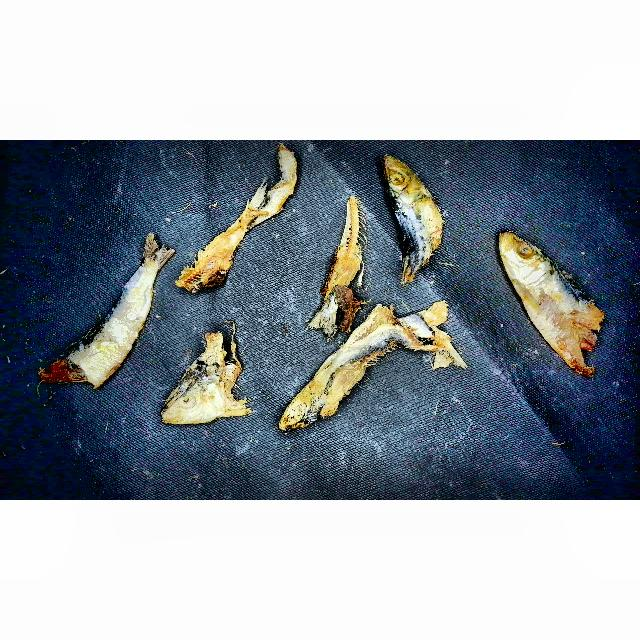Rejected_Body: (43, 278, 151, 400), (313, 302, 434, 406), (523, 294, 613, 379), (172, 222, 242, 301), (323, 197, 373, 295)
Rejected_Head: (157, 335, 259, 429), (381, 153, 446, 280), (492, 228, 560, 301), (271, 378, 340, 439)
Rejected_Tail: (415, 317, 471, 373), (226, 182, 277, 238), (123, 231, 180, 277), (302, 293, 352, 336)
